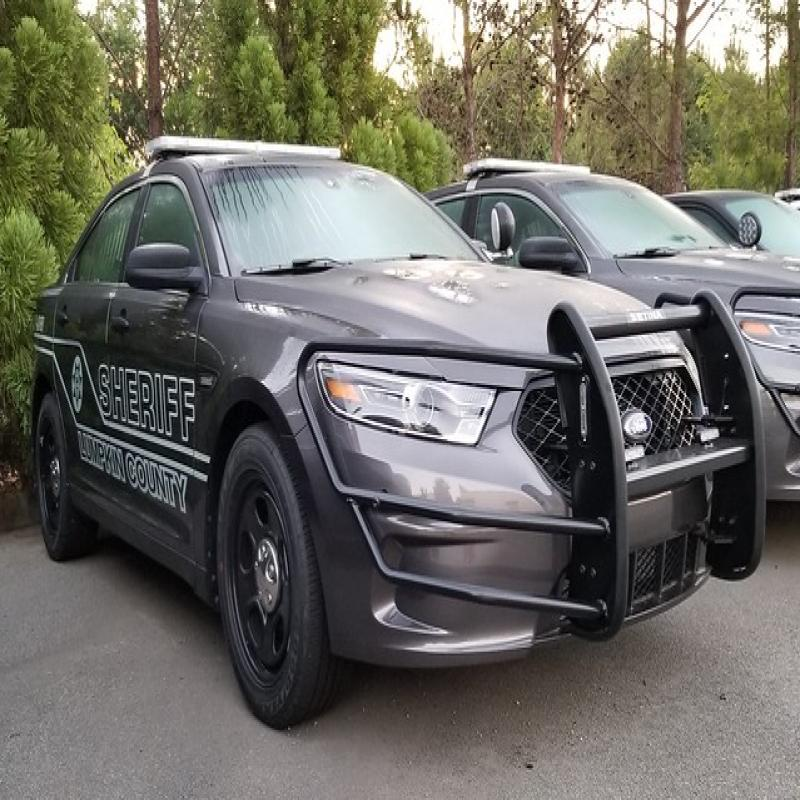AmbulanceSiren: (141, 115, 345, 187)
